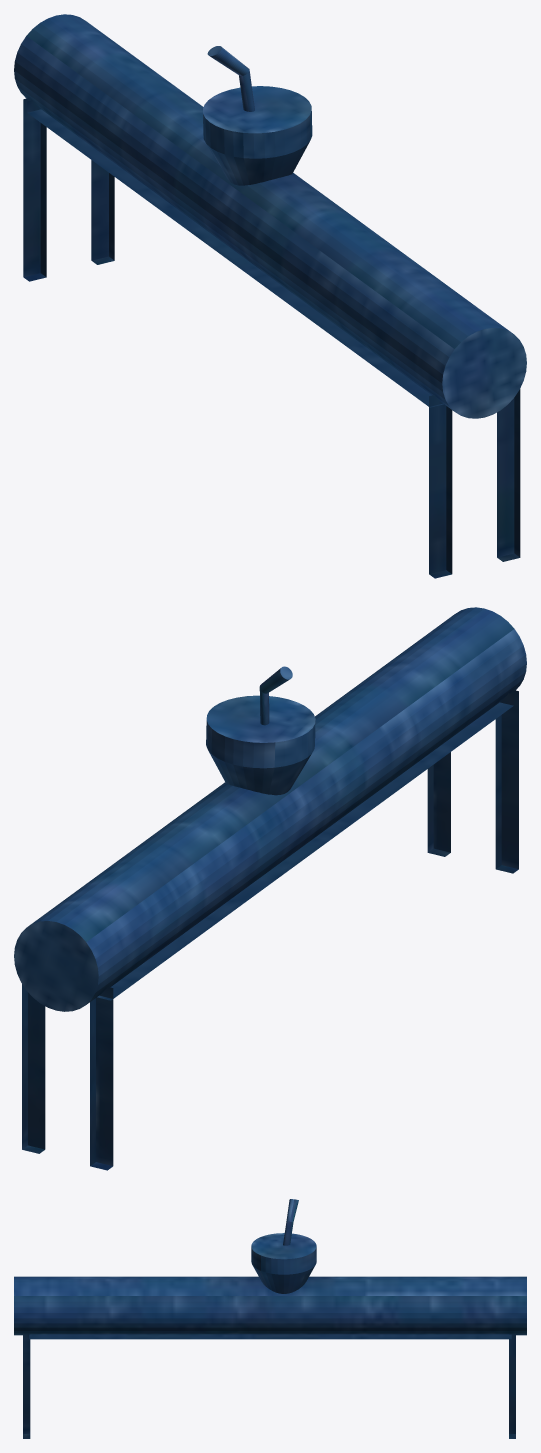
File: manure dryer.fbx
3 renders of one model, top to bottom at view 1: azimuth 30°, elevation 25°; view 2: azimuth 150°, elevation 25°; view 3: azimuth 270°, elevation 25°, orthographic. The views are drawn at different scales.
Parts seen in each view (by area): view 1: manure dryer; view 2: manure dryer; view 3: manure dryer.
Part boxes in pixels (x1,y1,x2,y2): manure dryer: (14,14,526,578); manure dryer: (14,607,526,1170); manure dryer: (14,1199,526,1438).
Size of the model in its own units: 128 by 469 by 998.
